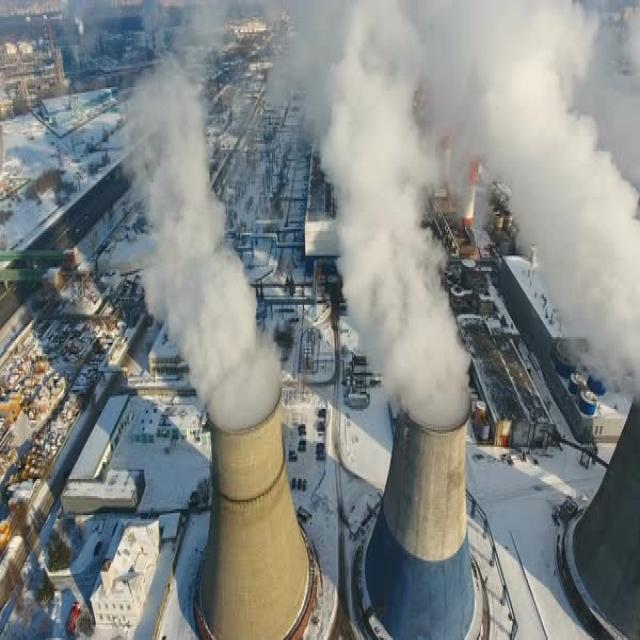Smoke: (109, 0, 640, 430)
